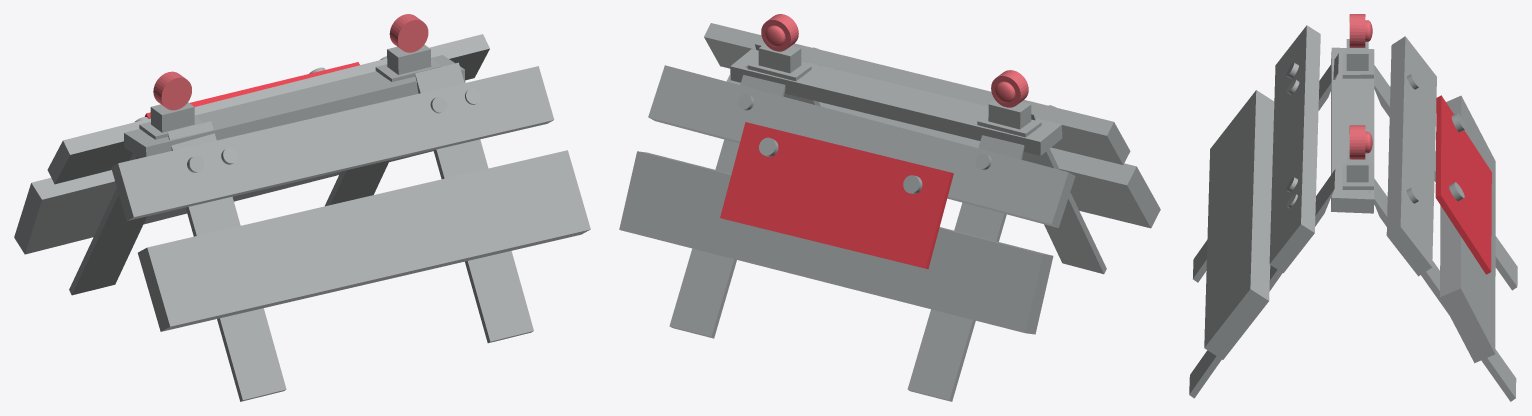
File: Small_barricade.fbx
3 renders of one model, left to right at view 1: azimuth 30°, elevation 25°; view 2: azimuth 150°, elevation 25°; view 3: azimuth 270°, elevation 25°, orthographic. The views are drawn at different scales.
Visible parts, largest first — view 1: Barricade_lower_plank_front; view 2: Barricade_lower_plank_front; view 3: Barricade_lower_plank_front.
Part boxes in pixels (box(x1,y1,x2,y2)): Barricade_lower_plank_front: box(14, 14, 590, 401); Barricade_lower_plank_front: box(619, 14, 1160, 401); Barricade_lower_plank_front: box(1189, 14, 1517, 401).
Bounding box in the file's own units: 6123 × 3750 × 4218.
